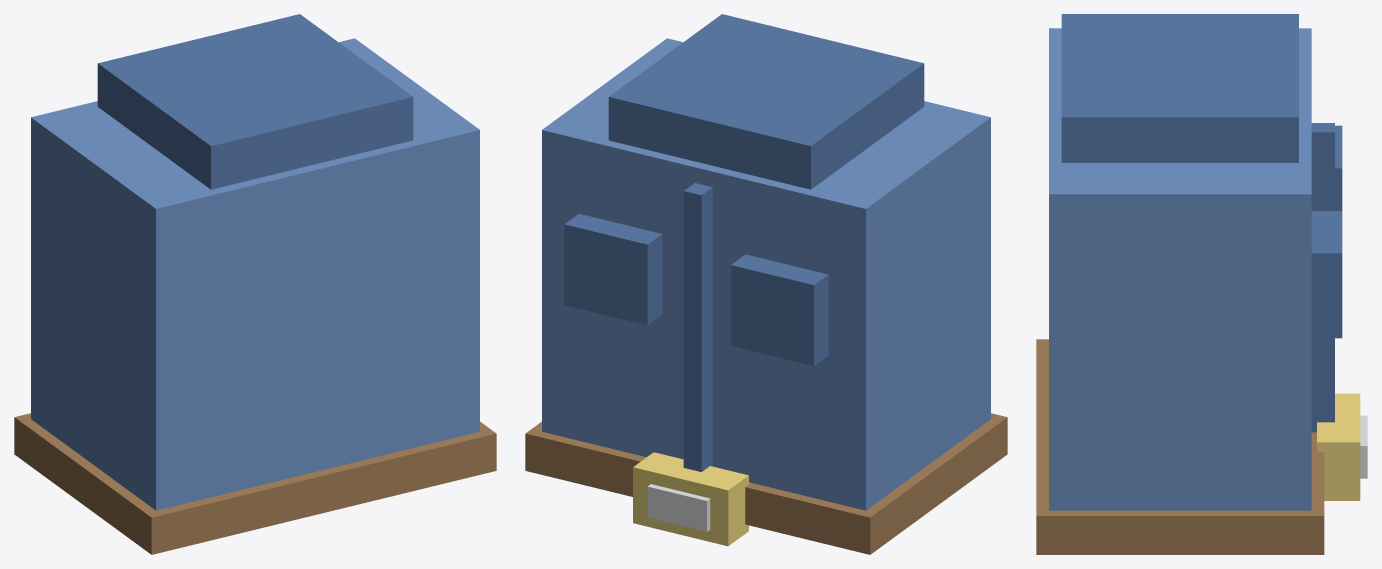
File: caminhoneiro_tronco.glb
3 views of the same model, side by side, from view 1: azimuth 30°, elevation 25°; view 2: azimuth 150°, elevation 25°; view 3: azimuth 270°, elevation 25° (orthographic). The views are drawn at different scales.
Parts seen in each view (by area): view 1: caminhoneiro_tronco; view 2: caminhoneiro_tronco; view 3: caminhoneiro_tronco.
Boxes of the visible parts, left/top/right/bottom form: caminhoneiro_tronco: left=14, top=14, right=496, bottom=554; caminhoneiro_tronco: left=525, top=14, right=1007, bottom=554; caminhoneiro_tronco: left=1036, top=14, right=1367, bottom=554.
Size of the model in its own units: 0.58 by 0.63 by 0.46.
